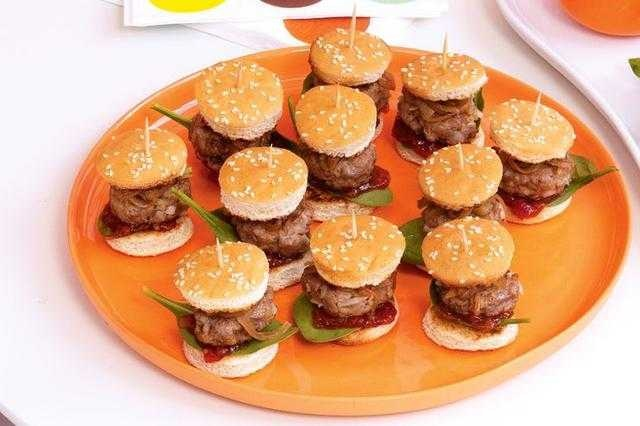hamburger: (165, 244, 290, 380), (297, 202, 403, 354), (424, 214, 523, 354), (210, 151, 319, 276), (286, 83, 390, 205), (92, 131, 196, 247), (491, 90, 575, 224), (415, 138, 513, 235), (187, 59, 279, 155), (399, 44, 483, 149), (310, 24, 393, 104)
